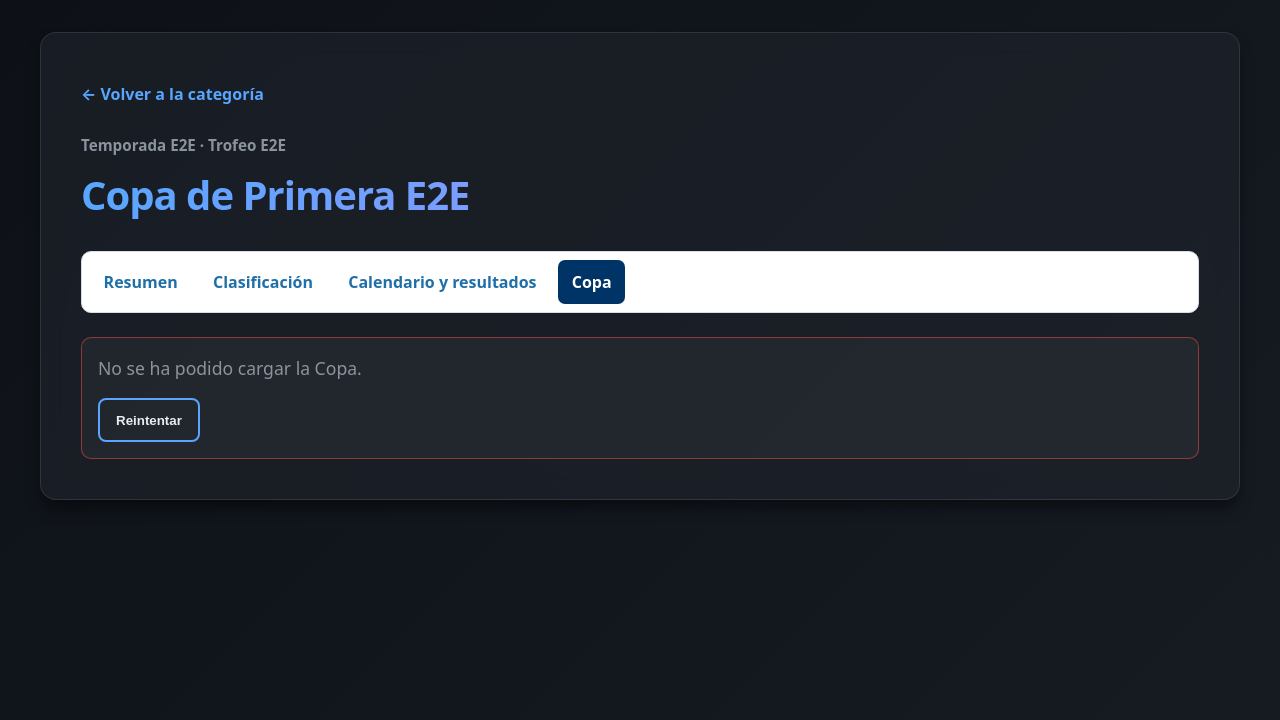
it: CupPage › shows a controlled error and retries the same public schedule source
Expected: the message shows "No se ha podido cargar la Copa.", [98,356,362,380]
Click the button "Reintentar" at (149, 420), box [98,398,200,442]
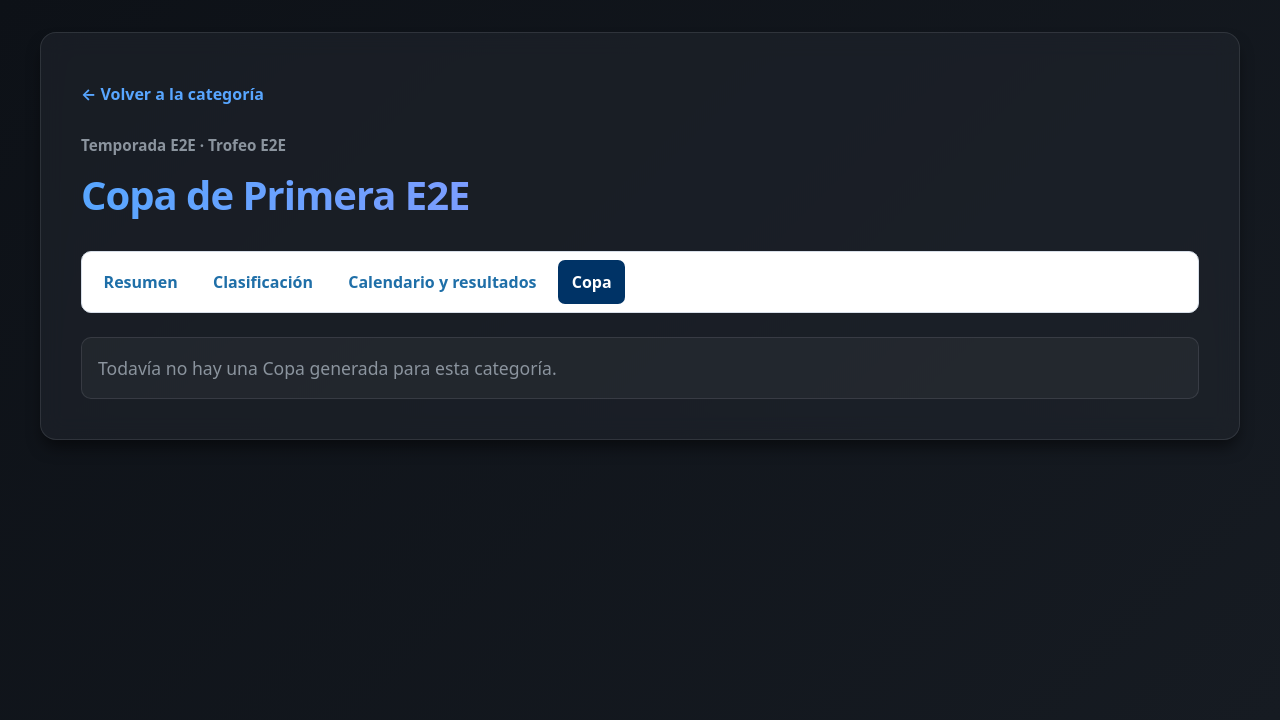
Now the text "Todavía no hay una Copa generada para esta categoría." is shown, box [81,337,1199,399]
